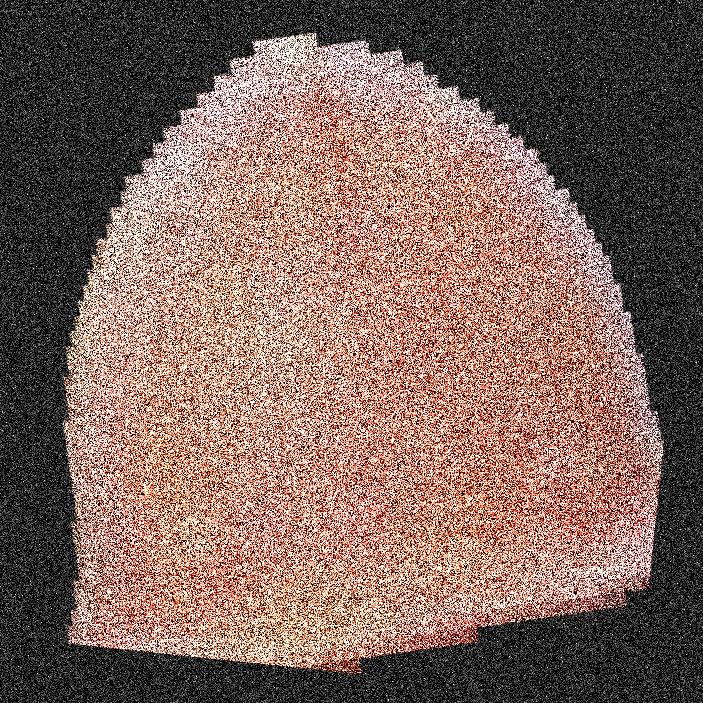Capacete: (101, 0, 593, 702)
